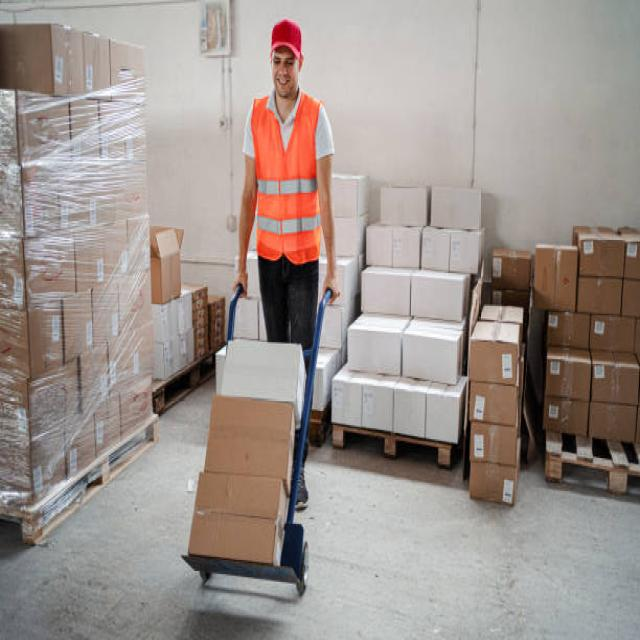Wooden-Pallets: (31, 414, 160, 555), (328, 418, 457, 473), (150, 342, 218, 418), (540, 448, 640, 499)
